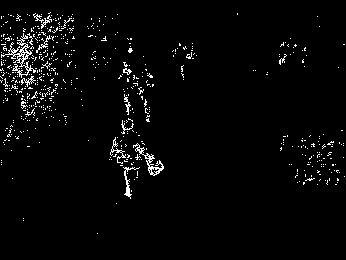person: (110, 118, 163, 197), (133, 65, 158, 122), (118, 60, 132, 118)
